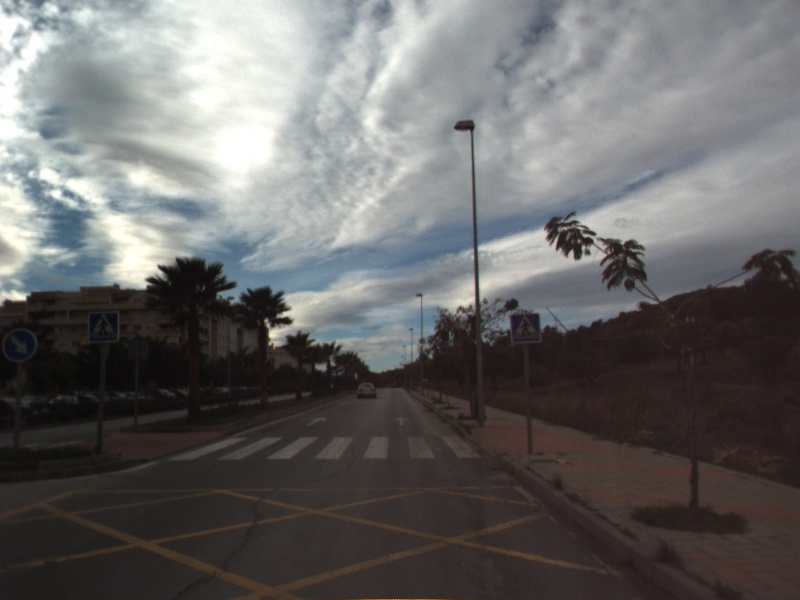STRAIGHT: (304, 415, 329, 427), (391, 415, 411, 428)
